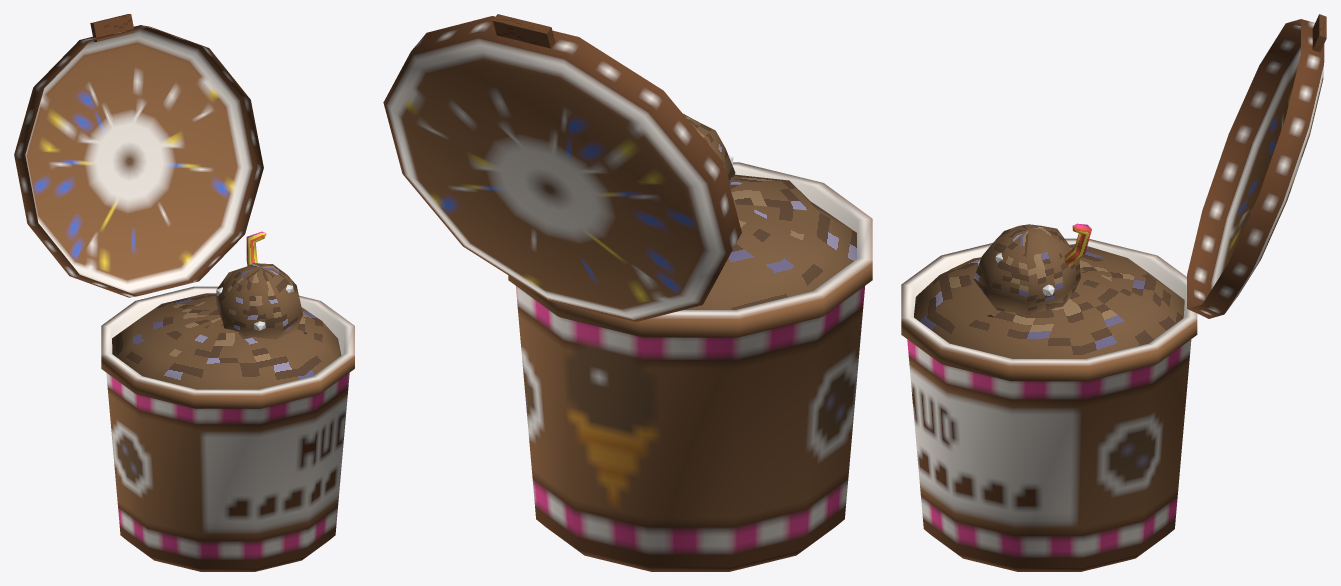
File: Flavor Tub Mud.fbx
3 views of the same model, side by side, from view 1: azimuth 30°, elevation 25°; view 2: azimuth 150°, elevation 25°; view 3: azimuth 270°, elevation 25° (orthographic). The views are drawn at different scales.
Parts seen in each view (by area): view 1: Flavor Tub Mud lid, Flavor Tub Mud tub, Flavor Tub Mud ice cream, Flavor Tub Mud swirl, Flavor Tub Mud lid tab; view 2: Flavor Tub Mud tub, Flavor Tub Mud lid, Flavor Tub Mud ice cream, Flavor Tub Mud lid tab, Flavor Tub Mud swirl; view 3: Flavor Tub Mud tub, Flavor Tub Mud lid, Flavor Tub Mud ice cream, Flavor Tub Mud swirl, Flavor Tub Mud top worm.
Boxes of the visible parts, x1=… form: Flavor Tub Mud lid: x1=14, y1=25, x2=263, y2=297; Flavor Tub Mud tub: x1=101, y1=286, x2=354, y2=571; Flavor Tub Mud ice cream: x1=112, y1=293, x2=341, y2=389; Flavor Tub Mud swirl: x1=216, y1=263, x2=306, y2=339; Flavor Tub Mud lid tab: x1=90, y1=14, x2=134, y2=41; Flavor Tub Mud tub: x1=508, y1=162, x2=872, y2=571; Flavor Tub Mud lid: x1=383, y1=16, x2=741, y2=321; Flavor Tub Mud ice cream: x1=684, y1=174, x2=856, y2=309; Flavor Tub Mud lid tab: x1=493, y1=14, x2=555, y2=48; Flavor Tub Mud swirl: x1=683, y1=113, x2=735, y2=185; Flavor Tub Mud tub: x1=901, y1=238, x2=1197, y2=571; Flavor Tub Mud lid: x1=1187, y1=19, x2=1324, y2=318; Flavor Tub Mud ice cream: x1=914, y1=244, x2=1184, y2=358; Flavor Tub Mud swirl: x1=973, y1=224, x2=1080, y2=317; Flavor Tub Mud top worm: x1=1064, y1=223, x2=1091, y2=266.
Size of the model in its own units: 0.3033 by 0.5406 by 0.4191.
6 materials, 5 textured.
